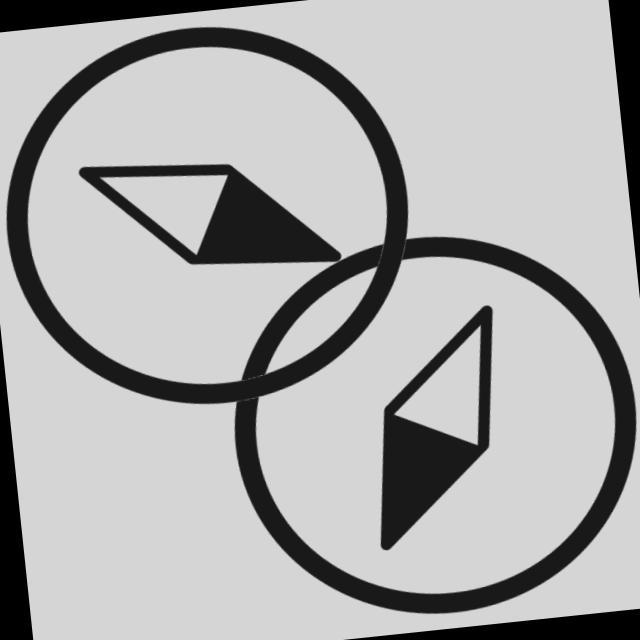compass: (201, 203, 640, 638), (1, 2, 432, 433)
